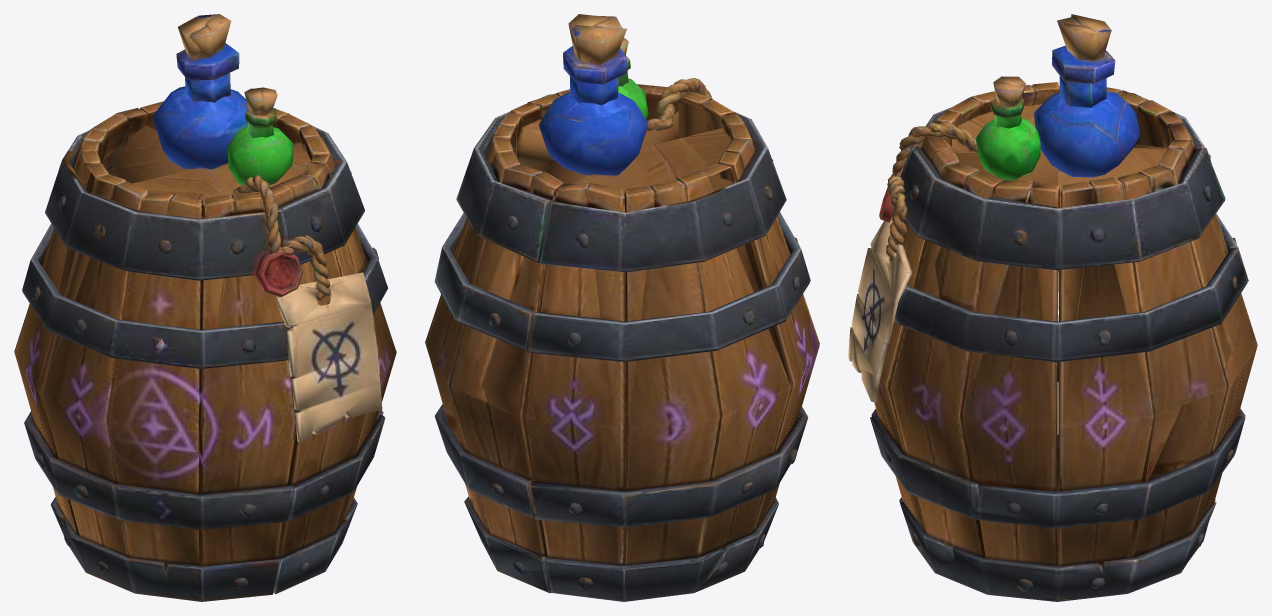
The model's file is potion.glb.
3 views of the same model, side by side, from view 1: azimuth 30°, elevation 25°; view 2: azimuth 150°, elevation 25°; view 3: azimuth 270°, elevation 25° (orthographic). The views are drawn at different scales.
Bounding box in the file's own units: 0.6469 × 0.9526 × 0.6716.
1 material, 1 textured.
